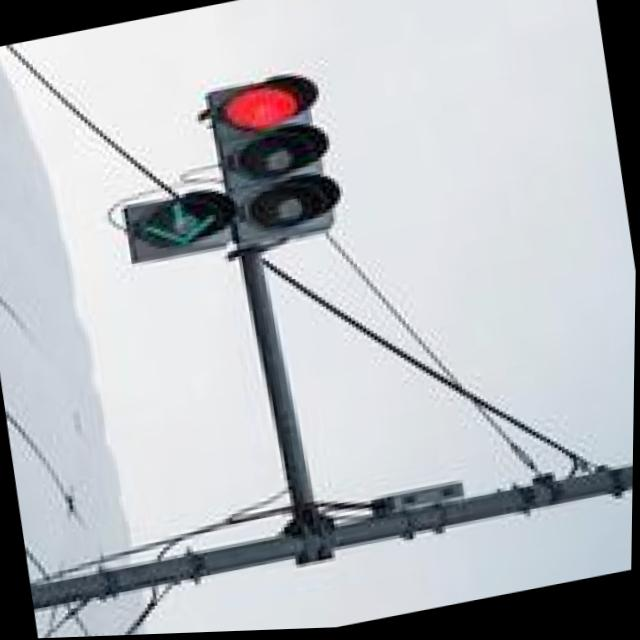red_light: (158, 25, 335, 150)
